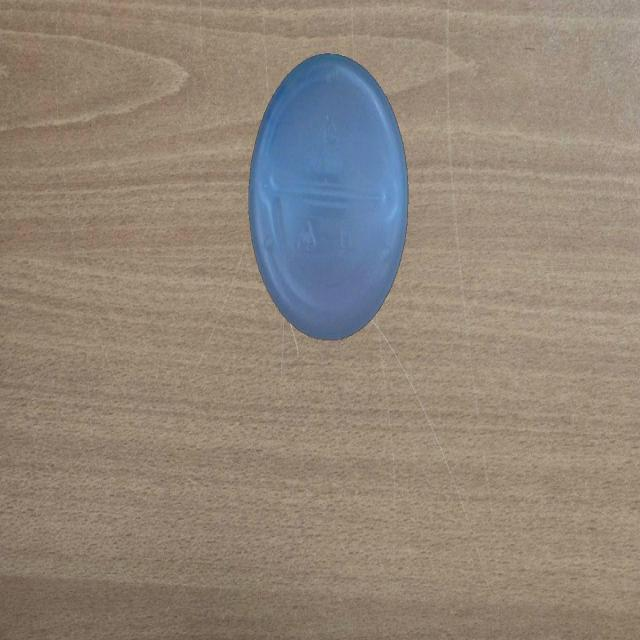bottle: (246, 47, 410, 345)
